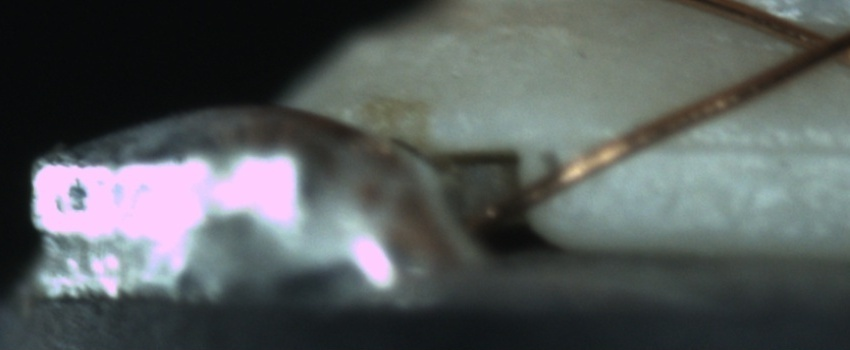CL: (770, 11, 849, 77)
DL: (630, 114, 849, 183)
